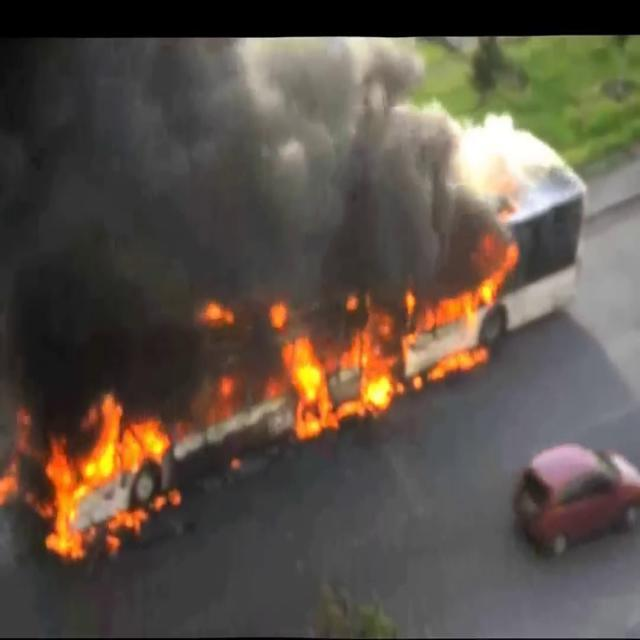Fire: (40, 390, 172, 557), (272, 307, 401, 434), (428, 238, 518, 354)
Smoke: (1, 36, 497, 416)
